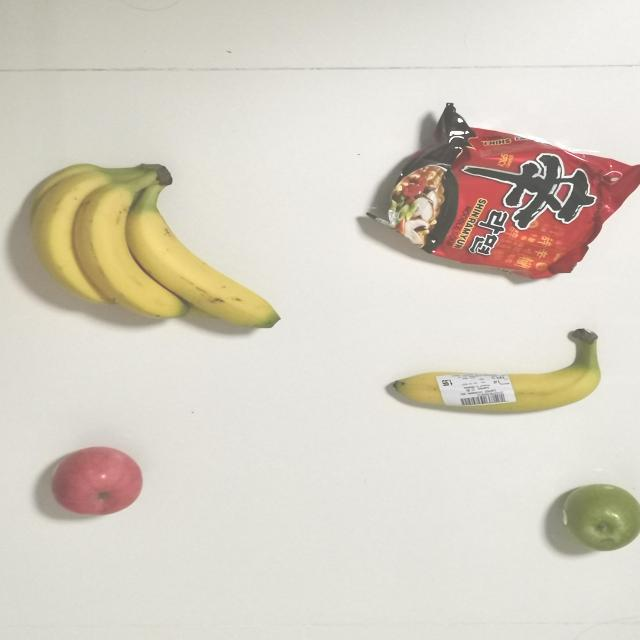Apple: (46, 440, 150, 520), (553, 479, 640, 552)
Banana: (19, 157, 278, 340), (367, 330, 629, 410)
